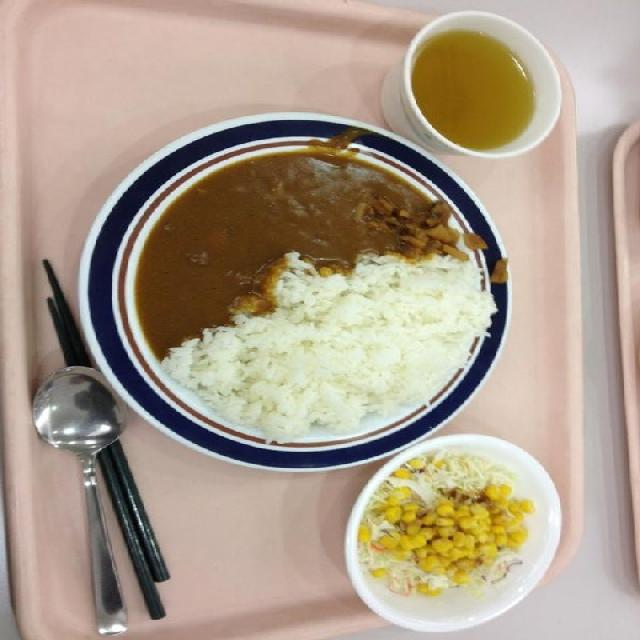牛肉菜式: (83, 115, 509, 474)
蔬菜料理: (347, 437, 561, 629)
